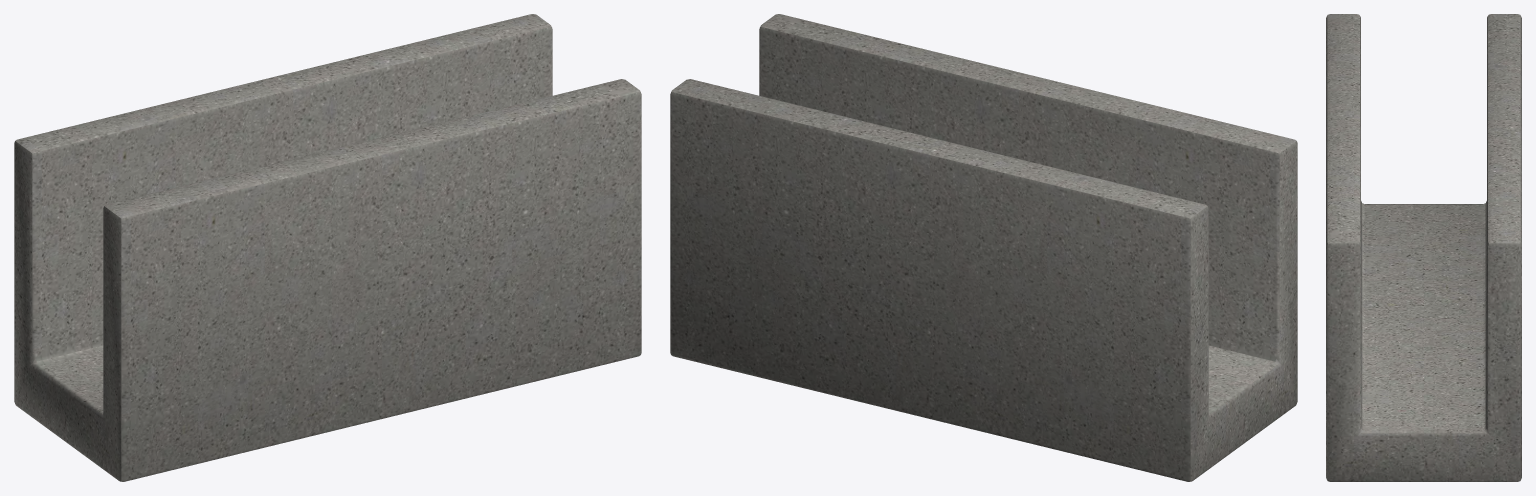
Rendered from ALV-BCO-003.glb.
3 renders of one model, left to right at view 1: azimuth 30°, elevation 25°; view 2: azimuth 150°, elevation 25°; view 3: azimuth 270°, elevation 25°, orthographic. The views are drawn at different scales.
Parts seen in each view (by area): view 1: ALV-BCO-003_peca; view 2: ALV-BCO-003_peca; view 3: ALV-BCO-003_peca.
Part boxes in pixels (bbox=[...]): ALV-BCO-003_peca: bbox=[14, 14, 641, 481]; ALV-BCO-003_peca: bbox=[670, 14, 1297, 481]; ALV-BCO-003_peca: bbox=[1326, 14, 1521, 481].
Size of the model in its own units: 0.39 by 0.19 by 0.14.
Materials: 1 (1 with a texture image).
